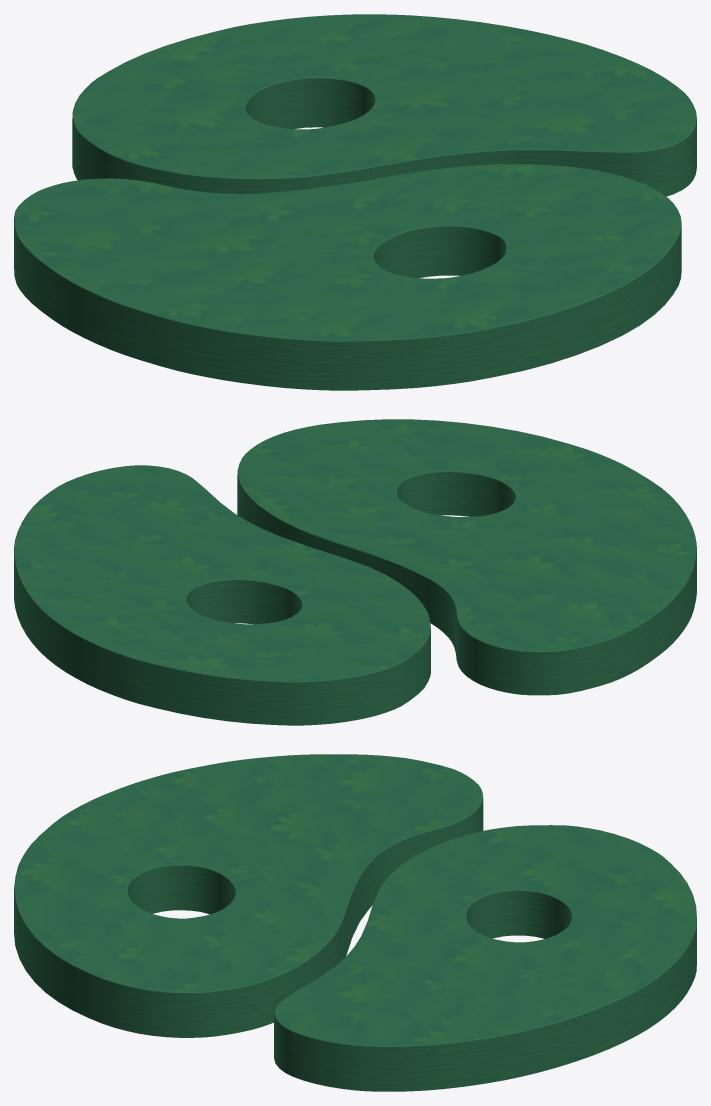
File: jinjang-island.glb
3 views of the same model, one above another, from view 1: azimuth 30°, elevation 25°; view 2: azimuth 150°, elevation 25°; view 3: azimuth 270°, elevation 25° (orthographic). The views are drawn at different scales.
Visible parts, largest first — view 1: geometry_0; view 2: geometry_0; view 3: geometry_0.
Boxes of the visible parts, x1,y1,x2,y2 form: geometry_0: (14,14,696,390); geometry_0: (14,419,696,725); geometry_0: (14,754,696,1091).
Size of the model in its own units: 83.08 by 6 by 81.98.
Materials: 1 (1 with a texture image).
